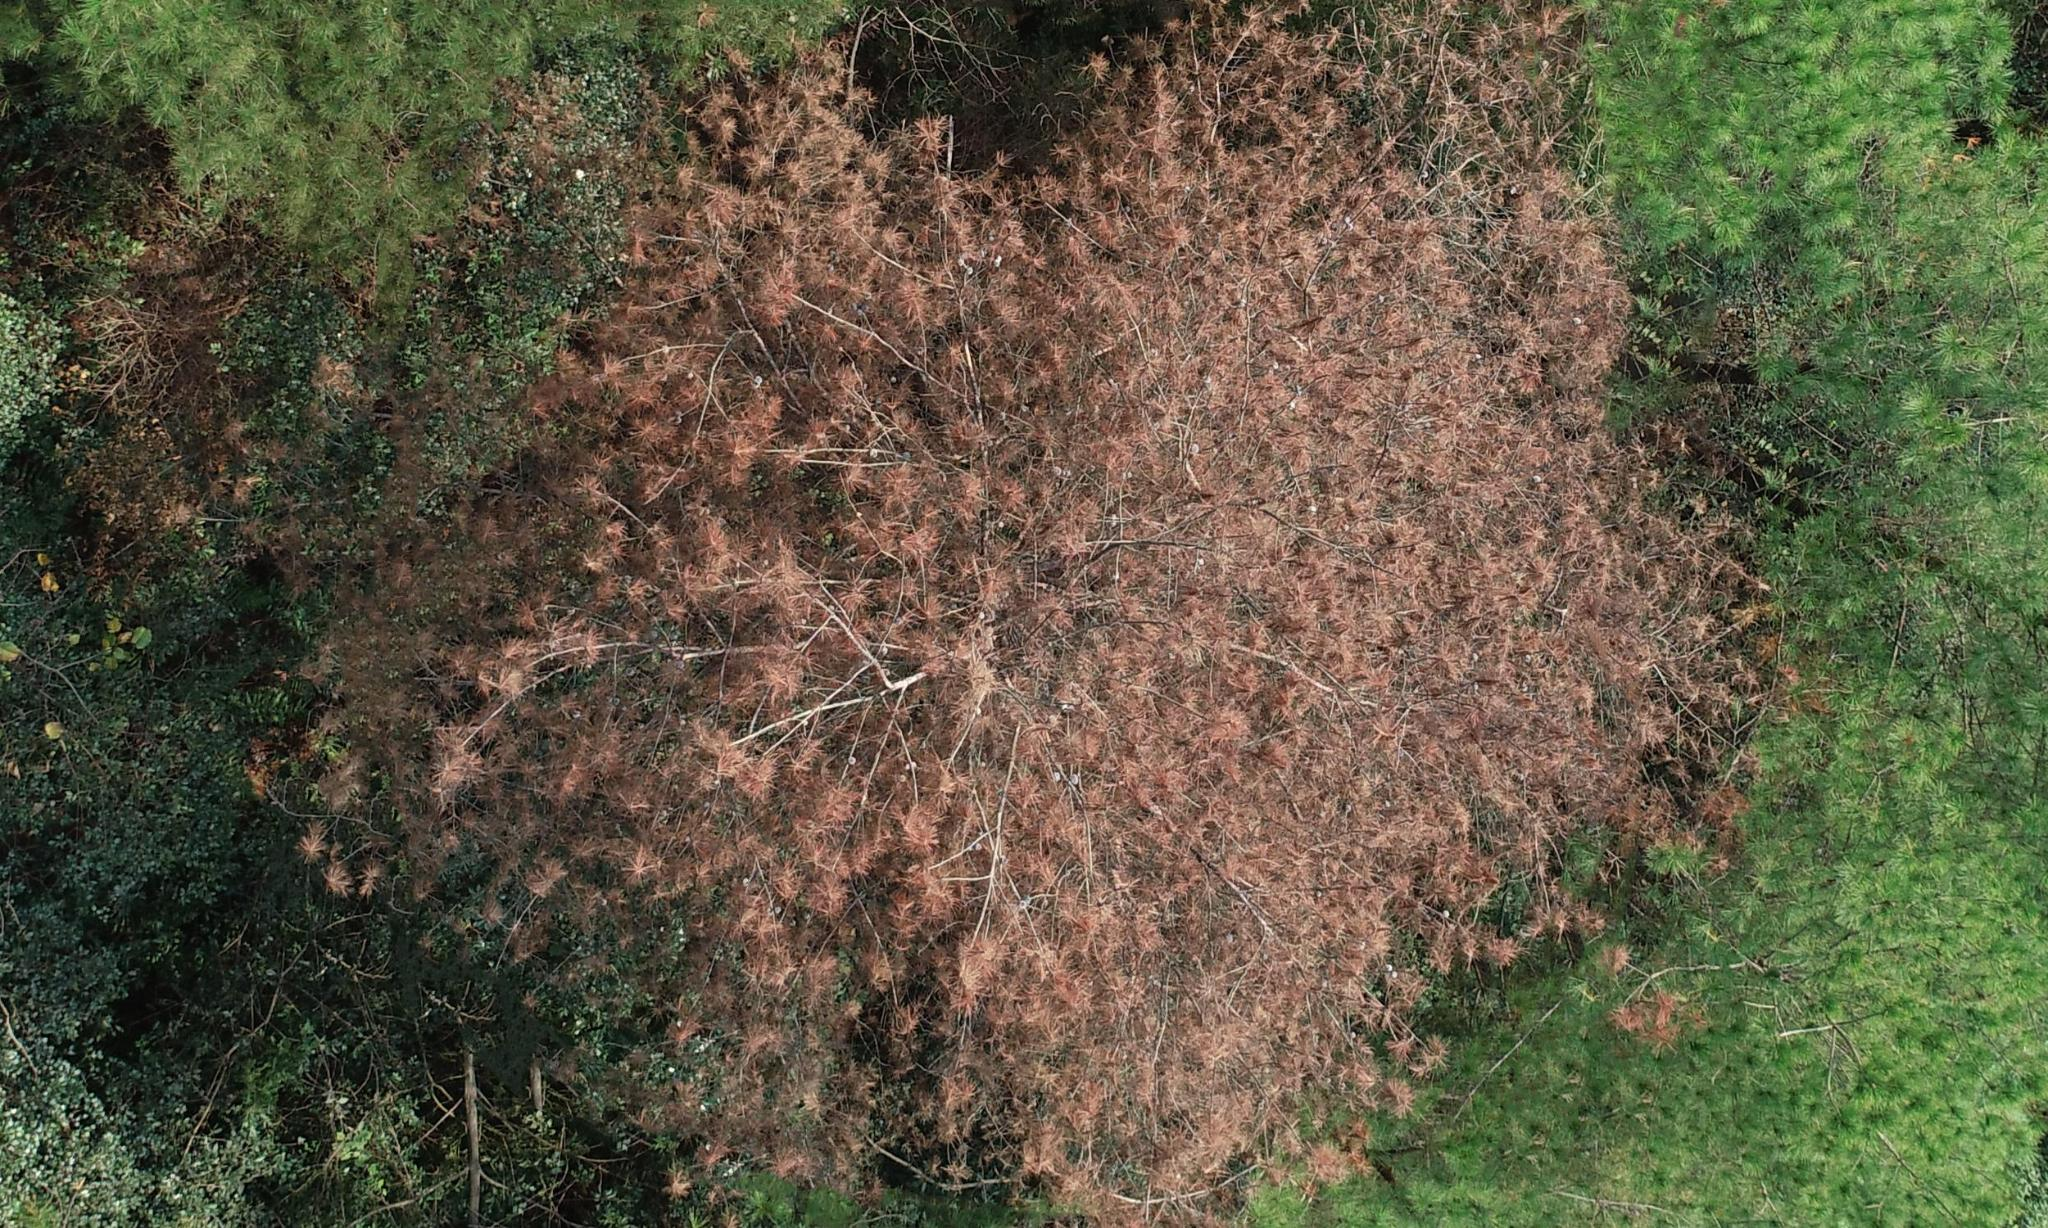heavy: (618, 6, 1741, 1228)
light: (99, 146, 602, 541)
